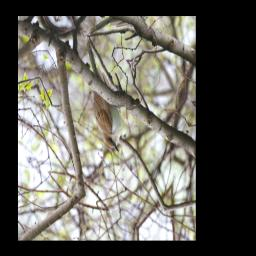Cuckoo: (62, 34, 143, 153)
